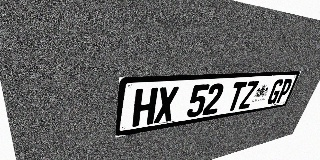2: (202, 83, 225, 116)
5: (186, 84, 210, 118)
G: (266, 79, 285, 105)
H: (132, 87, 158, 127)
P: (275, 78, 294, 103)
T: (226, 81, 247, 112)
X: (154, 86, 179, 124)
Z: (238, 81, 259, 110)
